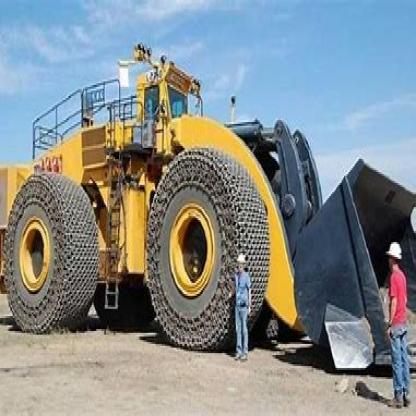bull_dozer/loader/grader: (0, 41, 415, 379)
